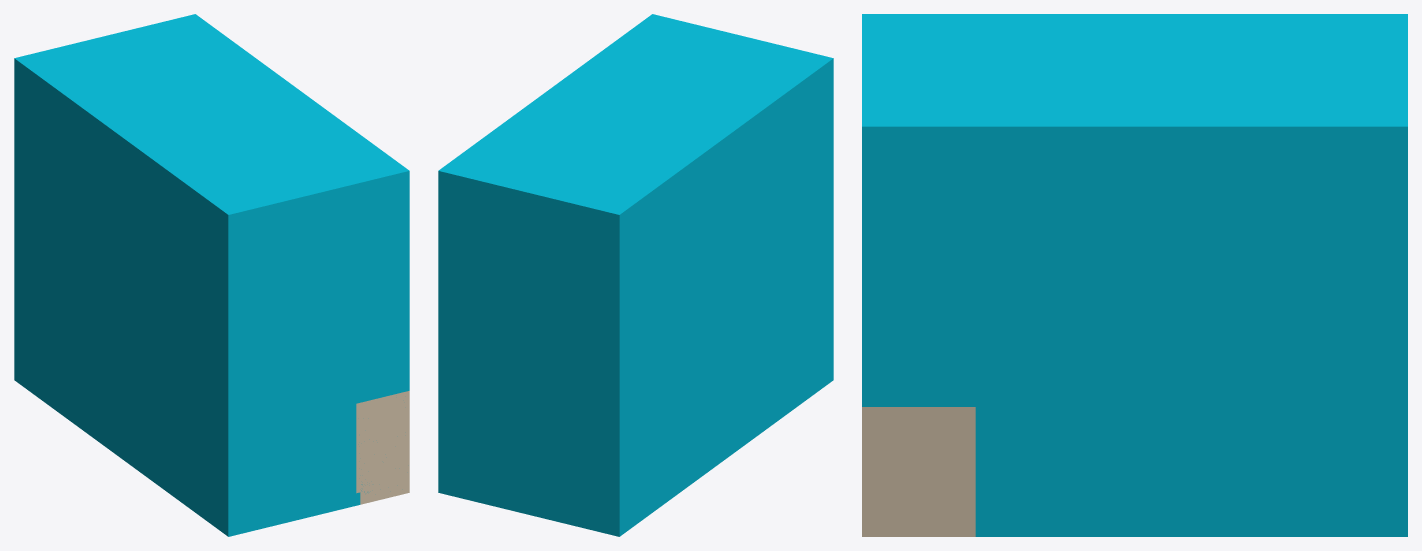
File: furnishingelement-650-x-450-mm.glb
3 views of the same model, side by side, from view 1: azimuth 30°, elevation 25°; view 2: azimuth 150°, elevation 25°; view 3: azimuth 270°, elevation 25° (orthographic). The views are drawn at different scales.
Parts seen in each view (by area): view 1: 0BTBFw6f90Nfh9rP1dl_3C, 2gRXFgjRn2HPE$YoDLX0mp; view 2: 0BTBFw6f90Nfh9rP1dl_3C; view 3: 0BTBFw6f90Nfh9rP1dl_3C, 2gRXFgjRn2HPE$YoDLX0mp.
Boxes of the visible parts, x1,y1,x2,y2 form: 0BTBFw6f90Nfh9rP1dl_3C: [14, 14, 409, 536]; 2gRXFgjRn2HPE$YoDLX0mp: [356, 391, 409, 504]; 0BTBFw6f90Nfh9rP1dl_3C: [438, 14, 833, 536]; 0BTBFw6f90Nfh9rP1dl_3C: [862, 14, 1407, 536]; 2gRXFgjRn2HPE$YoDLX0mp: [862, 407, 975, 536].
Size of the model in its own units: 1.52 by 2.59 by 3.12.
